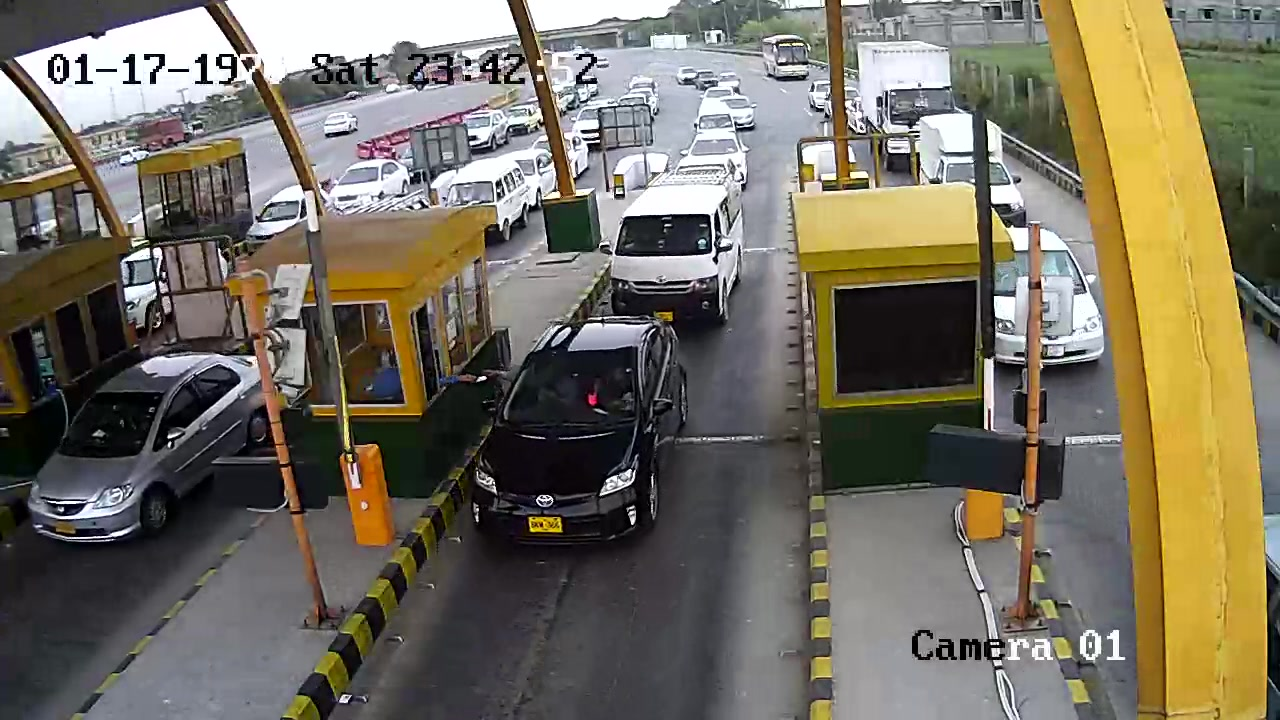F1: (466, 316, 698, 568)
